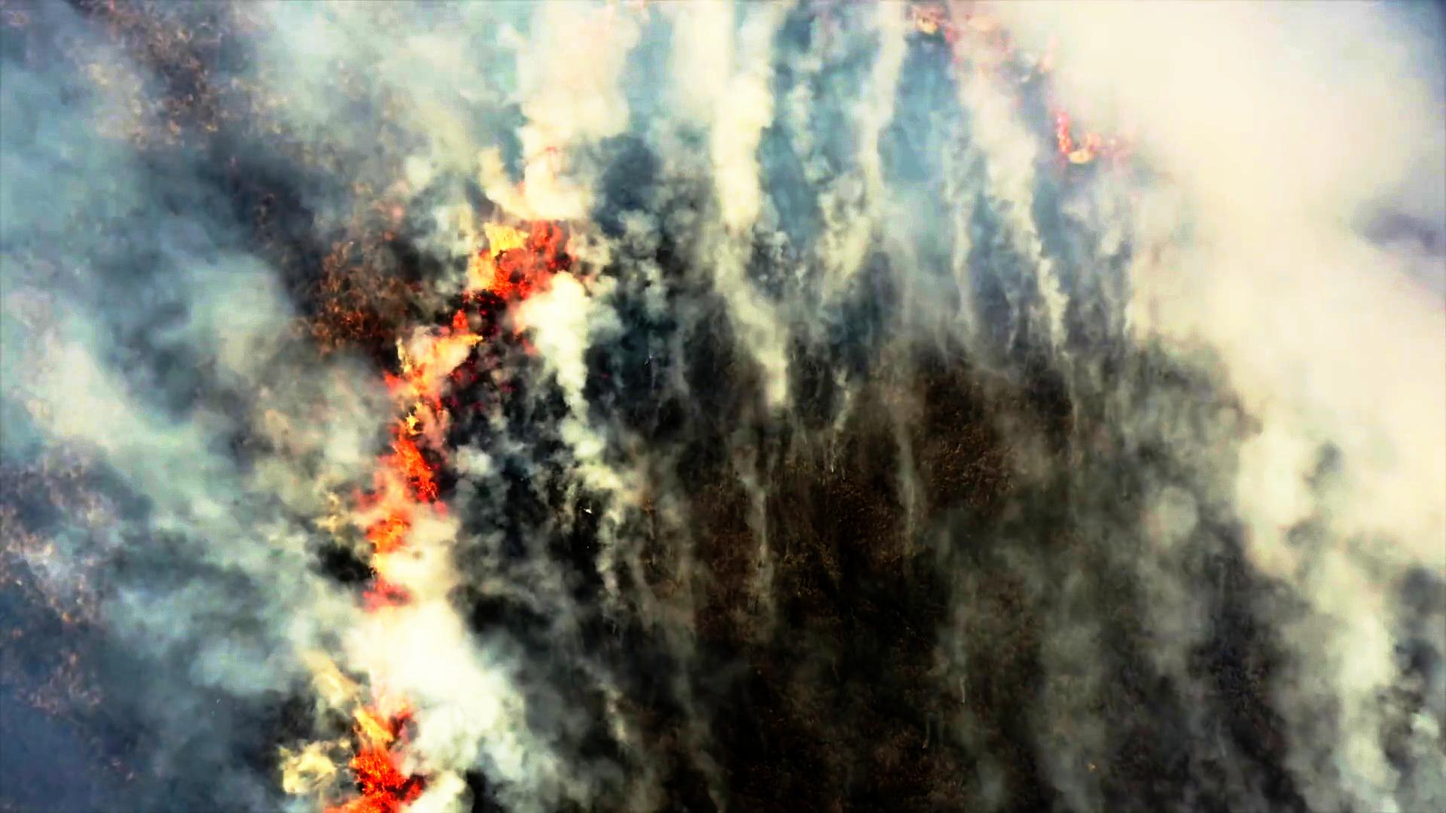fire: (483, 198, 582, 294), (383, 371, 439, 502), (336, 721, 415, 809)
smoke: (0, 0, 298, 461), (0, 461, 334, 813), (490, 12, 1099, 166), (1232, 118, 1446, 401), (674, 0, 816, 426), (534, 360, 637, 813), (1134, 0, 1443, 150), (898, 460, 1021, 813), (1121, 420, 1230, 813), (1011, 439, 1121, 800), (1256, 384, 1446, 588), (974, 0, 1079, 369), (345, 29, 493, 238), (366, 574, 505, 708)
